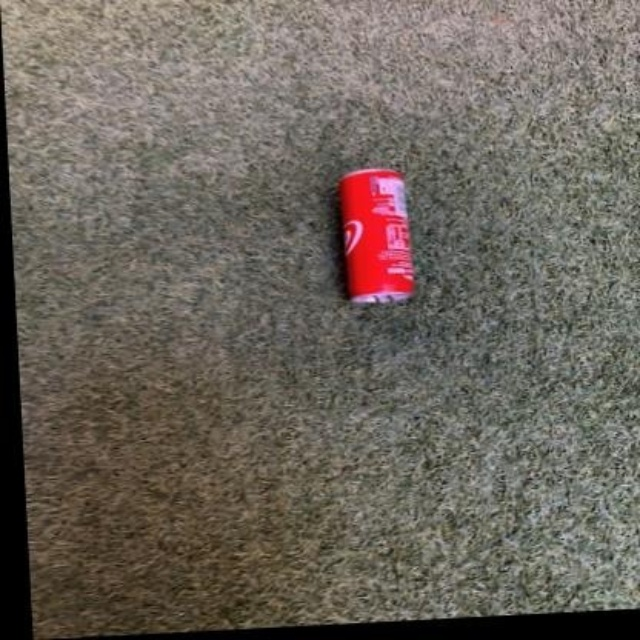trash: (340, 169, 412, 302)
